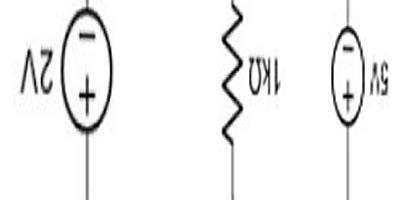resistor: (209, 4, 246, 161)
